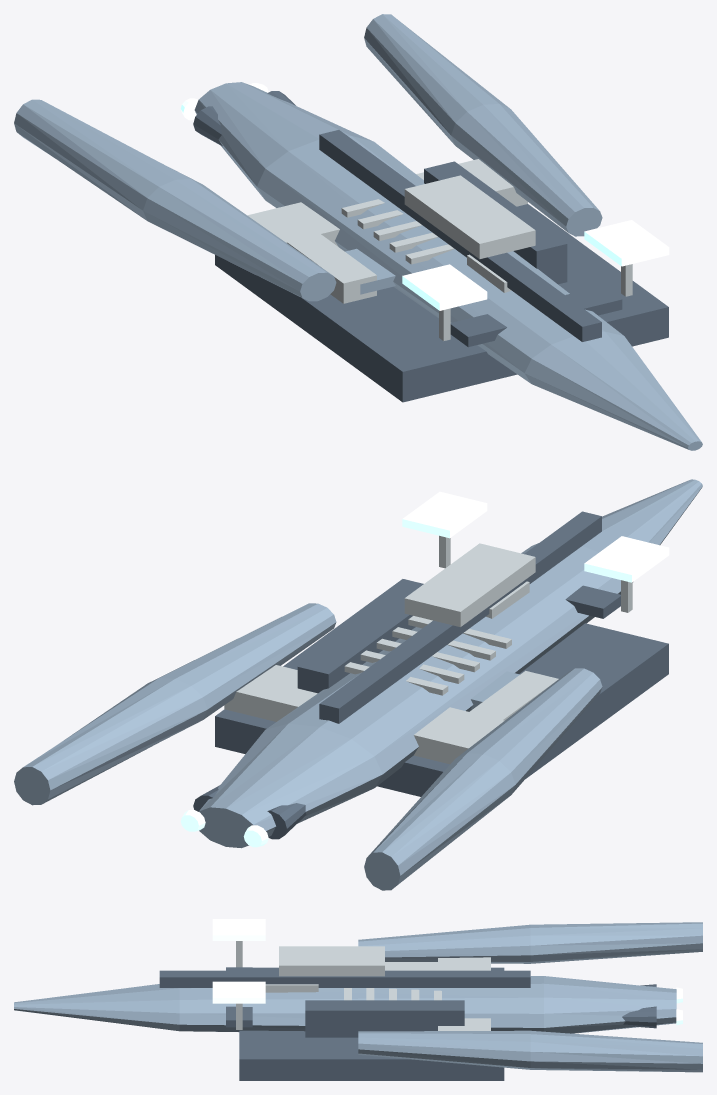
3 renders of one model, top to bottom at view 1: azimuth 30°, elevation 25°; view 2: azimuth 150°, elevation 25°; view 3: azimuth 270°, elevation 25°, orthographic. The views are drawn at different scales.
Bounding box in the file's own units: 5.13 × 1.43 × 11.23.
